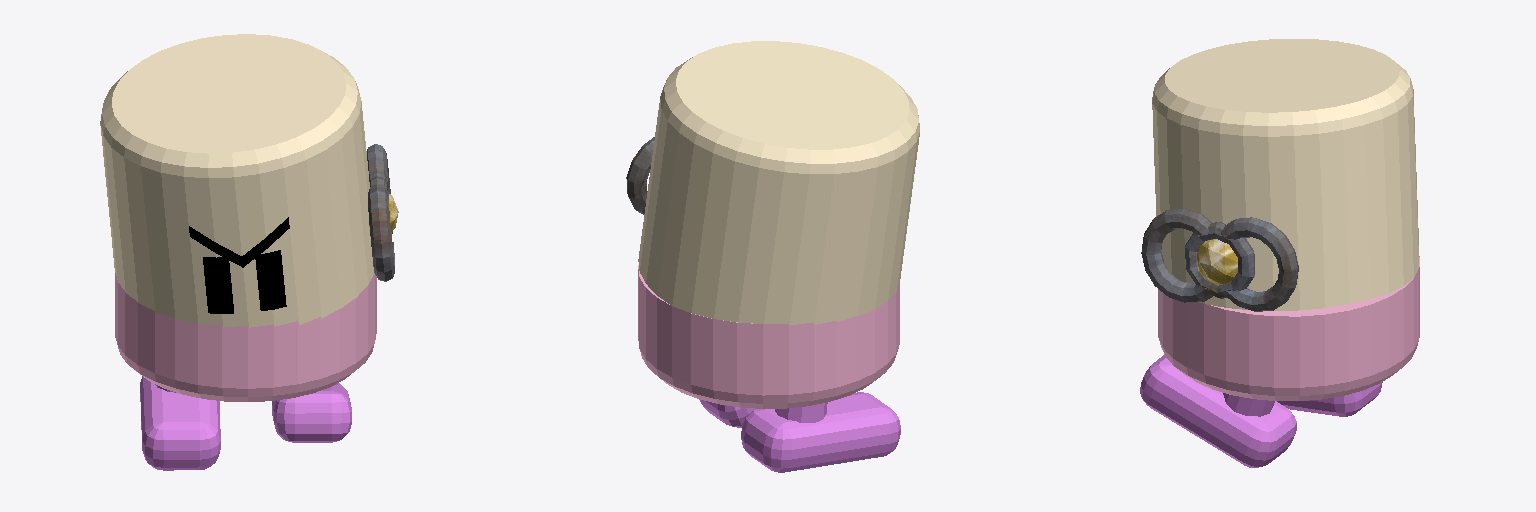
3 views of the same model, side by side, from view 1: azimuth 30°, elevation 25°; view 2: azimuth 150°, elevation 25°; view 3: azimuth 270°, elevation 25° (orthographic).
Visible parts, largest first — view 1: Head, Jaw, RightLeg, LeftLeg, WindupKey; view 2: Head, Jaw, RightLeg, WindupKey, LeftLeg; view 3: Head, Jaw, WindupKey, LeftLeg, RightLeg.
Part boxes in pixels (x1,y1,x2,y2): Head: (100,34,373,327); Jaw: (115,273,376,401); RightLeg: (140,376,220,470); LeftLeg: (272,383,351,442); WindupKey: (367,144,398,281); Head: (638,41,919,324); Jaw: (638,265,899,408); RightLeg: (741,392,900,472); WindupKey: (626,137,654,214); LeftLeg: (699,399,754,427); Head: (1152,39,1419,310); Jaw: (1158,257,1419,400); WindupKey: (1141,209,1298,311); LeftLeg: (1140,355,1296,467); RightLeg: (1277,382,1382,416).
Size of the model in its own units: 120 by 152 by 107.
Materials: 6 (2 with a texture image).